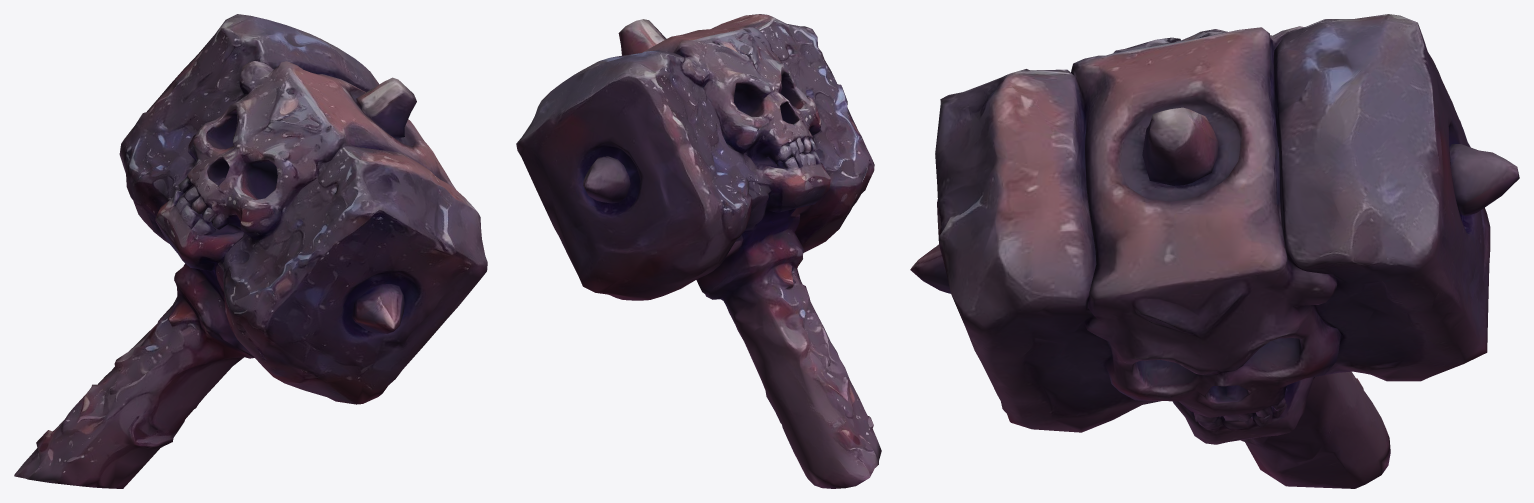
File: mace-hammer.glb
The picture shows the model from 3 angles, left to right: view 1: azimuth 30°, elevation 25°; view 2: azimuth 150°, elevation 25°; view 3: azimuth 270°, elevation 25°; orthographic projection. The views are drawn at different scales.
Parts seen in each view (by area): view 1: tripo_node_fb6ea75d-2e49-4949-87b9-f47c2188f707; view 2: tripo_node_fb6ea75d-2e49-4949-87b9-f47c2188f707; view 3: tripo_node_fb6ea75d-2e49-4949-87b9-f47c2188f707.
Boxes of the visible parts, x1=… form: tripo_node_fb6ea75d-2e49-4949-87b9-f47c2188f707: x1=14, y1=14, x2=487, y2=488; tripo_node_fb6ea75d-2e49-4949-87b9-f47c2188f707: x1=516, y1=14, x2=881, y2=488; tripo_node_fb6ea75d-2e49-4949-87b9-f47c2188f707: x1=910, y1=14, x2=1519, y2=488.
Bounding box in the file's own units: 0.9322 × 1 × 0.9412.
1 material, 1 textured.
